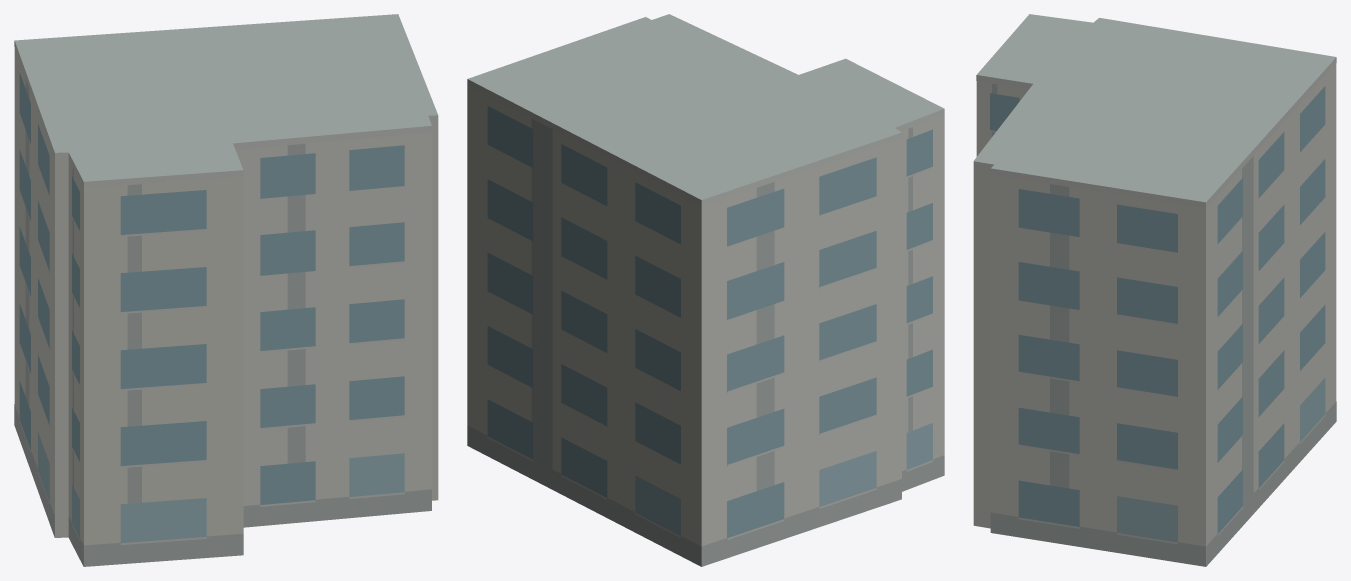
File: survey-upis-32948705.glb
The picture shows the model from 3 angles, left to right: view 1: azimuth 30°, elevation 25°; view 2: azimuth 150°, elevation 25°; view 3: azimuth 270°, elevation 25°; orthographic projection. The views are drawn at different scales.
Visible parts, largest first — view 1: survey-upis-32948705.tmp; view 2: survey-upis-32948705.tmp; view 3: survey-upis-32948705.tmp.
Boxes of the visible parts, x1,y1,x2,y2 form: survey-upis-32948705.tmp: [14, 14, 438, 566]; survey-upis-32948705.tmp: [467, 14, 944, 566]; survey-upis-32948705.tmp: [973, 14, 1336, 566].
Size of the model in its own units: 15.75 by 14.2 by 12.83.
